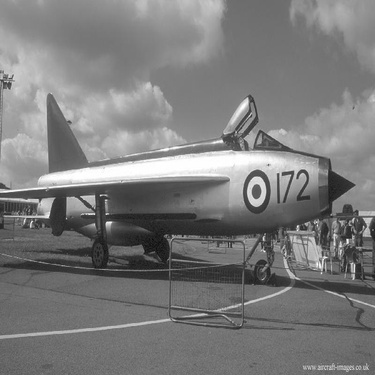airplane: (8, 67, 355, 302)
